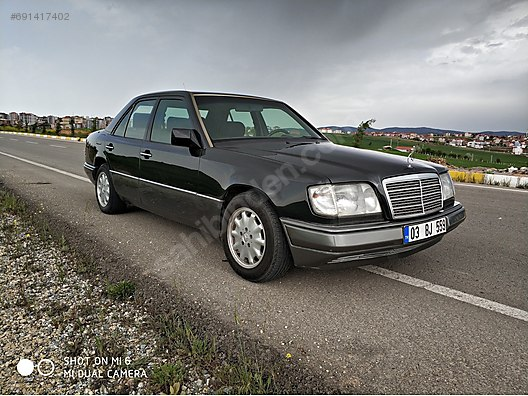mercedes: (84, 92, 465, 292)
